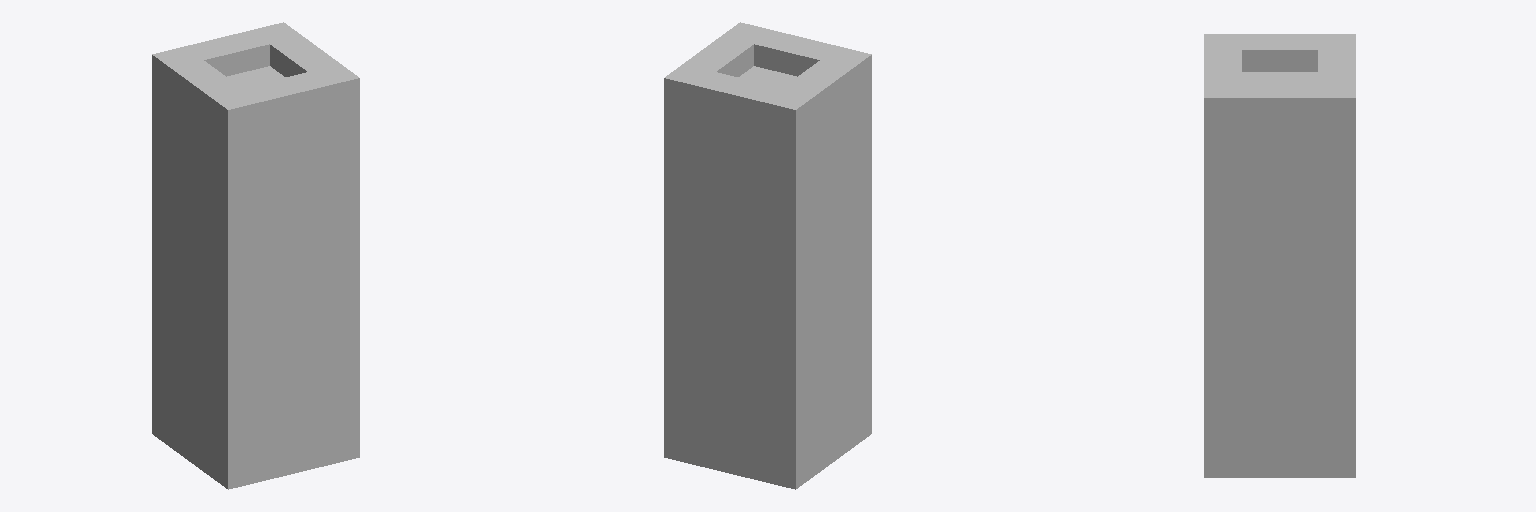
Rendered from mcl_tea_cup_spruce.obj.
3 views of the same model, side by side, from view 1: azimuth 30°, elevation 25°; view 2: azimuth 150°, elevation 25°; view 3: azimuth 270°, elevation 25° (orthographic).
Parts seen in each view (by area): view 1: Cube_Cube.002, Cube.002_Cube.006; view 2: Cube_Cube.002, Cube.002_Cube.006; view 3: Cube_Cube.002, Cube.002_Cube.006.
Part boxes in pixels (x1,y1,x2,y2): Cube_Cube.002: (152,22,359,489); Cube.002_Cube.006: (227,66,285,87); Cube_Cube.002: (664,22,871,489); Cube.002_Cube.006: (738,66,796,87); Cube_Cube.002: (1204,34,1355,477); Cube.002_Cube.006: (1242,72,1317,81).
Size of the model in its own units: 0.25 by 0.6875 by 0.25.